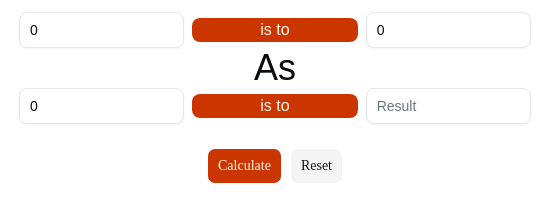
Scenario: RuleOfThree › onFormSubmit success › returns proportional result for a=2 b=4 c=3
Replace the text in the 1st field with placeholder "Value A" with "2": (102, 30) top-left (19, 12), bottom-right (184, 48)
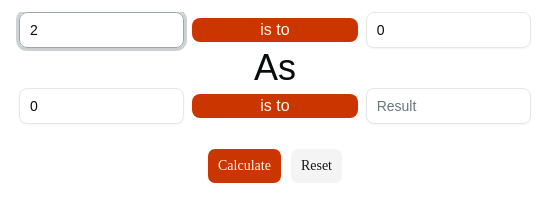
Replace the text in the 2nd field with placeholder "Value B" with "4": (448, 30) top-left (366, 12), bottom-right (531, 48)
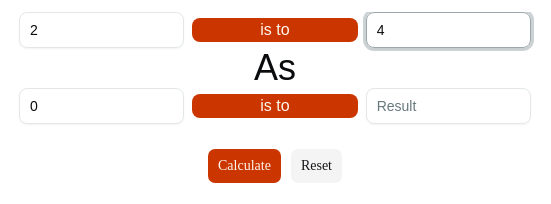
Replace the text in the 3rd field with placeholder "Value C" with "3": (102, 106) top-left (19, 88), bottom-right (184, 124)
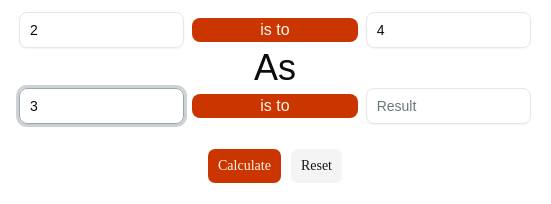
Click the button with aria-label "calculate rule of three": (244, 166) top-left (207, 148), bottom-right (282, 184)
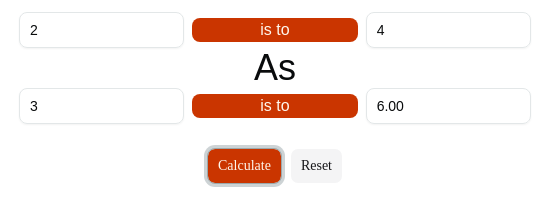
Check: the 4th field with placeholder "Result" holds "6.00", box top-left (366, 88), bottom-right (531, 124)
